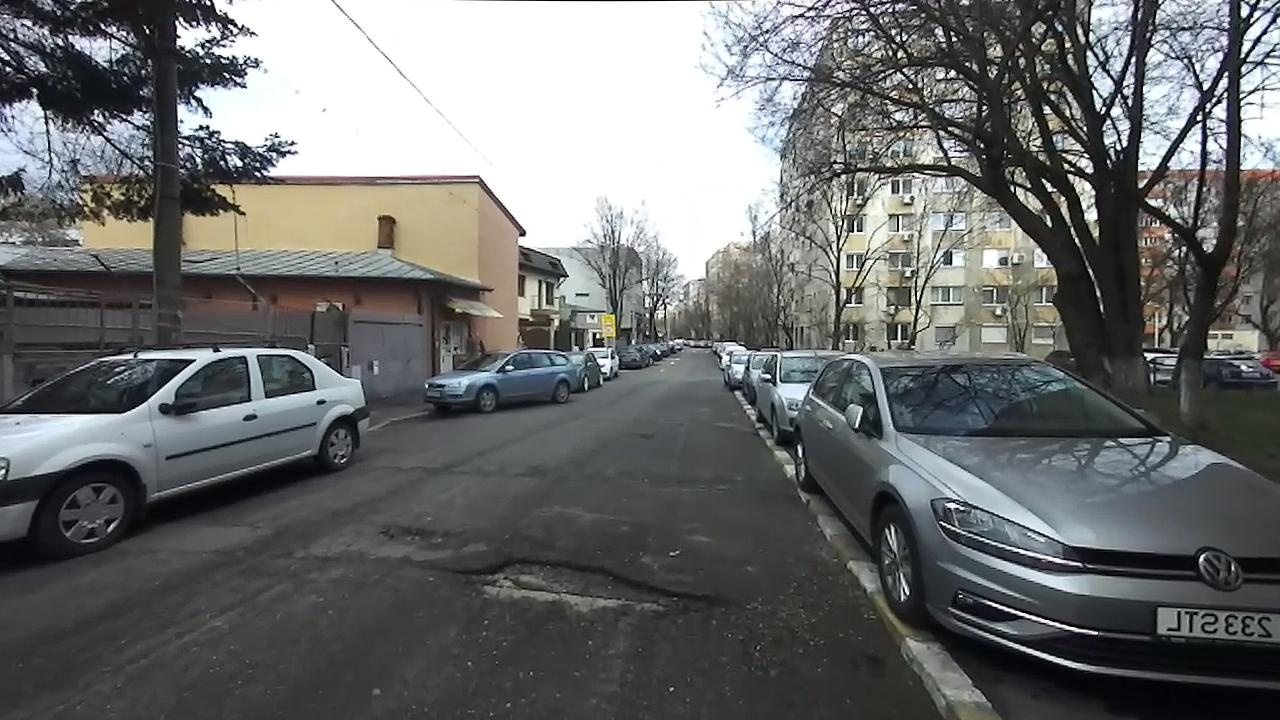pothole: (451, 552, 730, 629), (374, 519, 475, 551)
